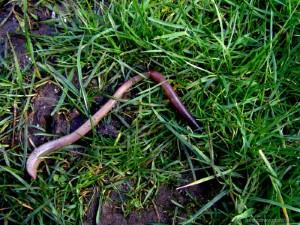earthworms: (20, 34, 217, 176)
